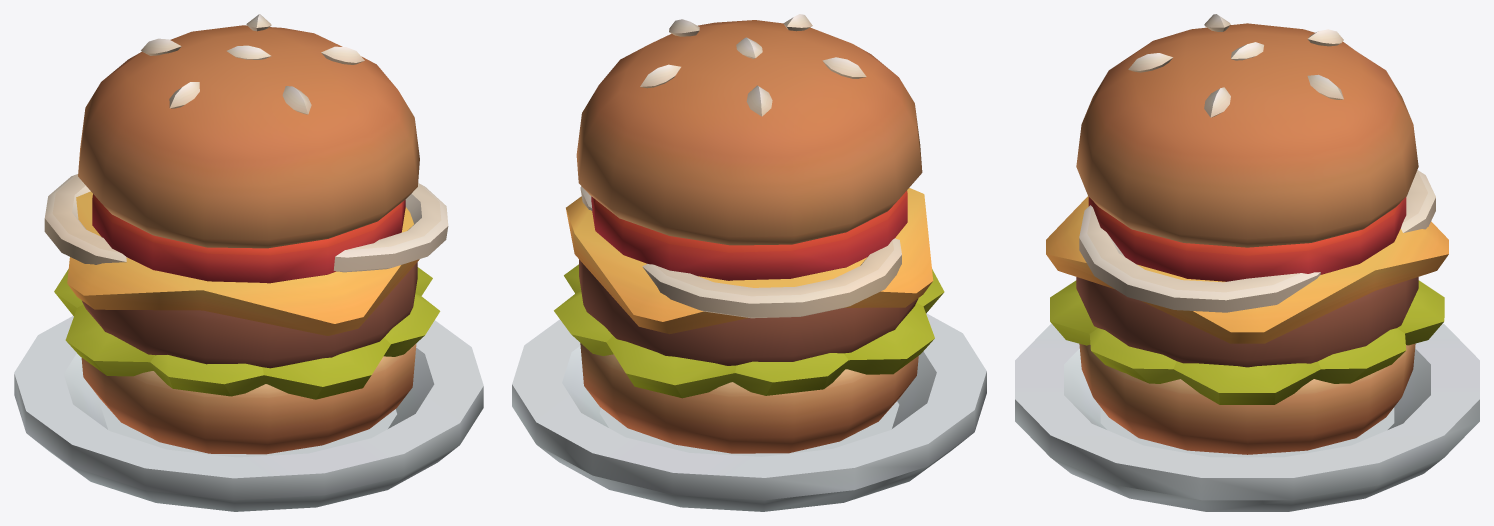
File: kkr.food_burger.glb
3 views of the same model, side by side, from view 1: azimuth 30°, elevation 25°; view 2: azimuth 150°, elevation 25°; view 3: azimuth 270°, elevation 25° (orthographic).
Parts seen in each view (by area): view 1: food_burger; view 2: food_burger; view 3: food_burger.
Part boxes in pixels (<box>): food_burger: <box>14,14,483,511</box>; food_burger: <box>512,14,986,511</box>; food_burger: <box>1015,14,1479,511</box>.
Size of the model in its own units: 0.2619 by 0.2363 by 0.2619.
Materials: 1 (1 with a texture image).
